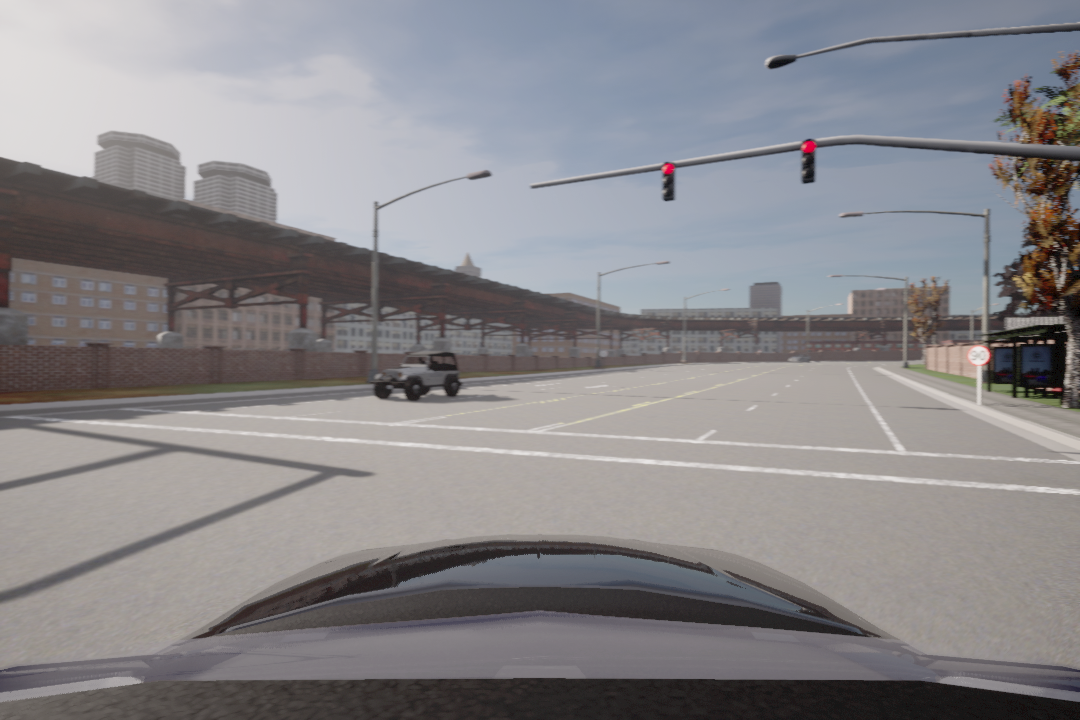TrafficLight: (798, 132, 820, 188), (656, 161, 681, 201)
TrafficSign_speed: (964, 342, 993, 365)
